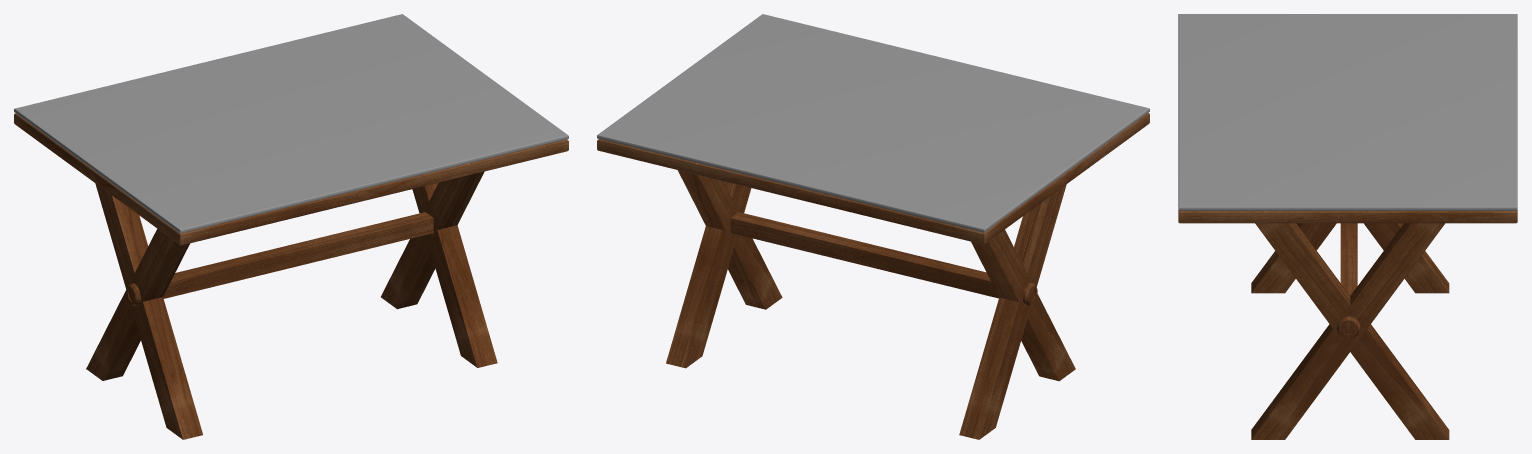
File: Table 2.FBX
3 renders of one model, left to right at view 1: azimuth 30°, elevation 25°; view 2: azimuth 150°, elevation 25°; view 3: azimuth 270°, elevation 25°, orthographic. The views are drawn at different scales.
Visible parts, largest first — view 1: table 2; view 2: table 2; view 3: table 2.
Part boxes in pixels (bbox=[...]): table 2: bbox=[14, 14, 568, 439]; table 2: bbox=[597, 14, 1149, 439]; table 2: bbox=[1178, 14, 1517, 439].
Size of the model in its own units: 135 by 81.47 by 100.
2 materials, 1 textured.
